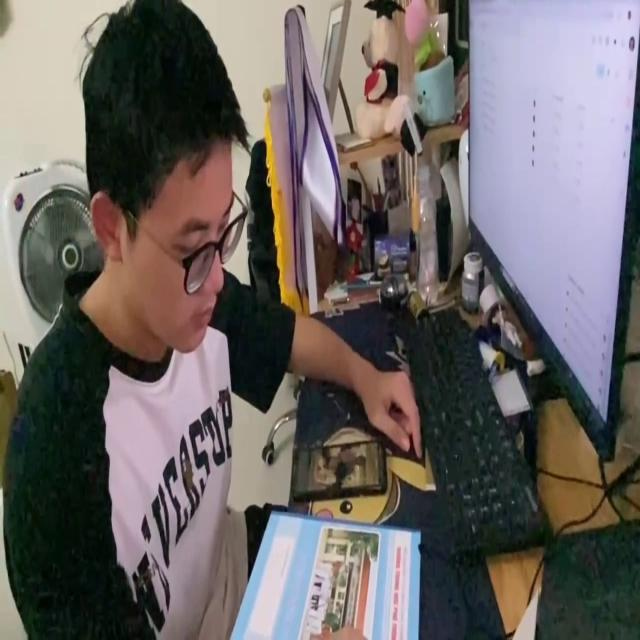book: (228, 508, 421, 640)
laptop: (466, 0, 640, 472)
phone: (287, 434, 388, 500)
student: (2, 0, 424, 640)
